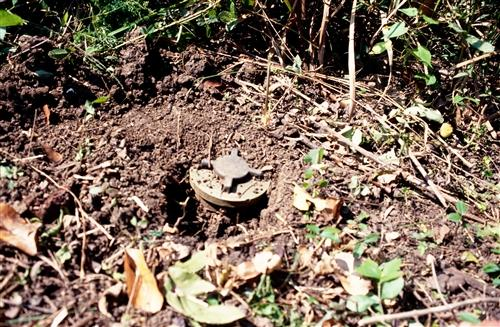pmn: (187, 143, 272, 215)
